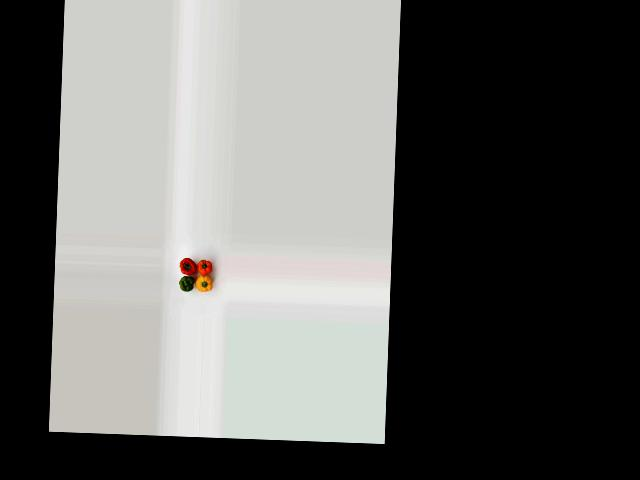bell_pepper: (177, 272, 196, 296)
